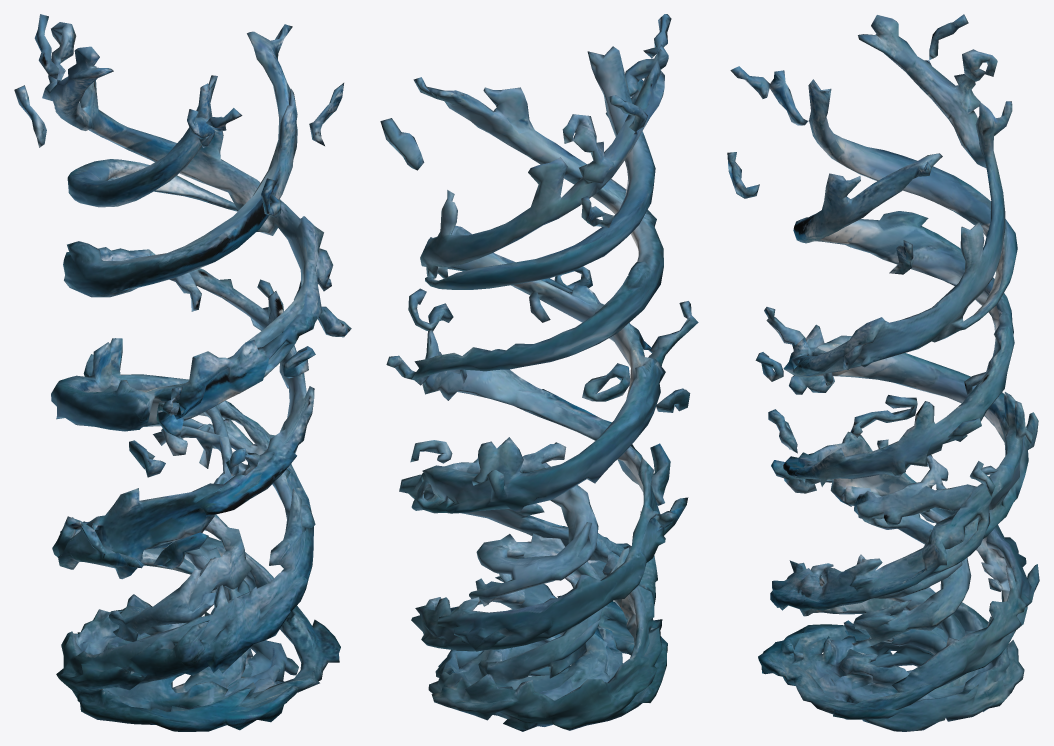
The model's file is Un_espiral_de_agua_e_1113160105_texture.fbx.
3 renders of one model, left to right at view 1: azimuth 30°, elevation 25°; view 2: azimuth 150°, elevation 25°; view 3: azimuth 270°, elevation 25°, orthographic. The views are drawn at different scales.
Parts seen in each view (by area): view 1: Mesh1.0; view 2: Mesh1.0; view 3: Mesh1.0.
Boxes of the visible parts, left/top/right/bottom form: Mesh1.0: left=14, top=14, right=351, bottom=731; Mesh1.0: left=380, top=14, right=698, bottom=731; Mesh1.0: left=727, top=14, right=1039, bottom=731.
Bounding box in the file's own units: 71.97 × 161 × 71.88.
Materials: 1 (1 with a texture image).
